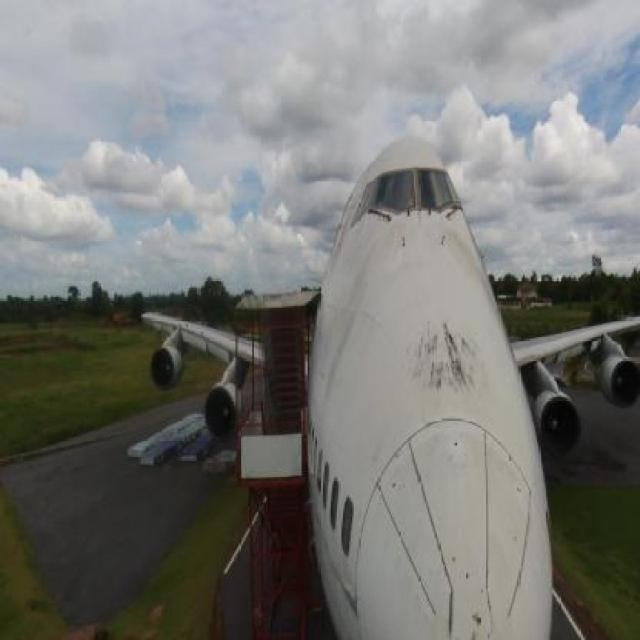Rust: (400, 316, 500, 401), (454, 229, 486, 306)
Scartch: (322, 234, 376, 388), (461, 575, 492, 640), (339, 571, 364, 624)
